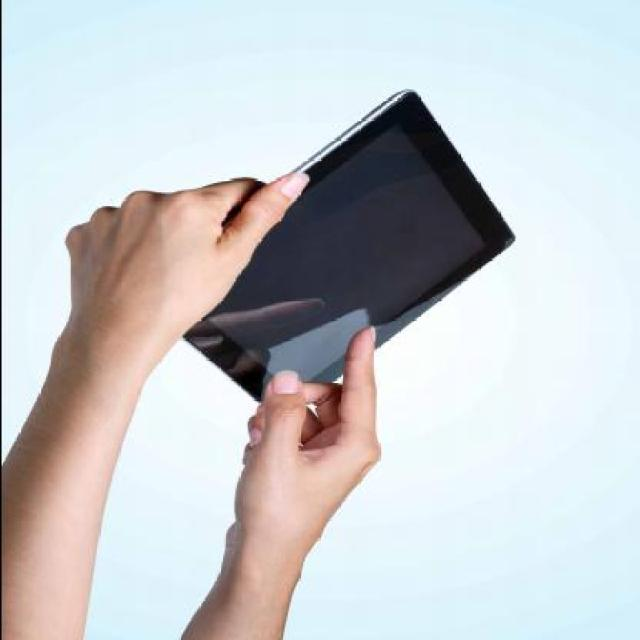tablet: (136, 69, 549, 418)
